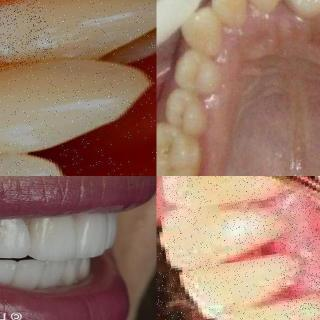Gum Swelling: (0, 0, 44, 140)
maligned: (176, 4, 228, 60), (240, 0, 294, 13)
